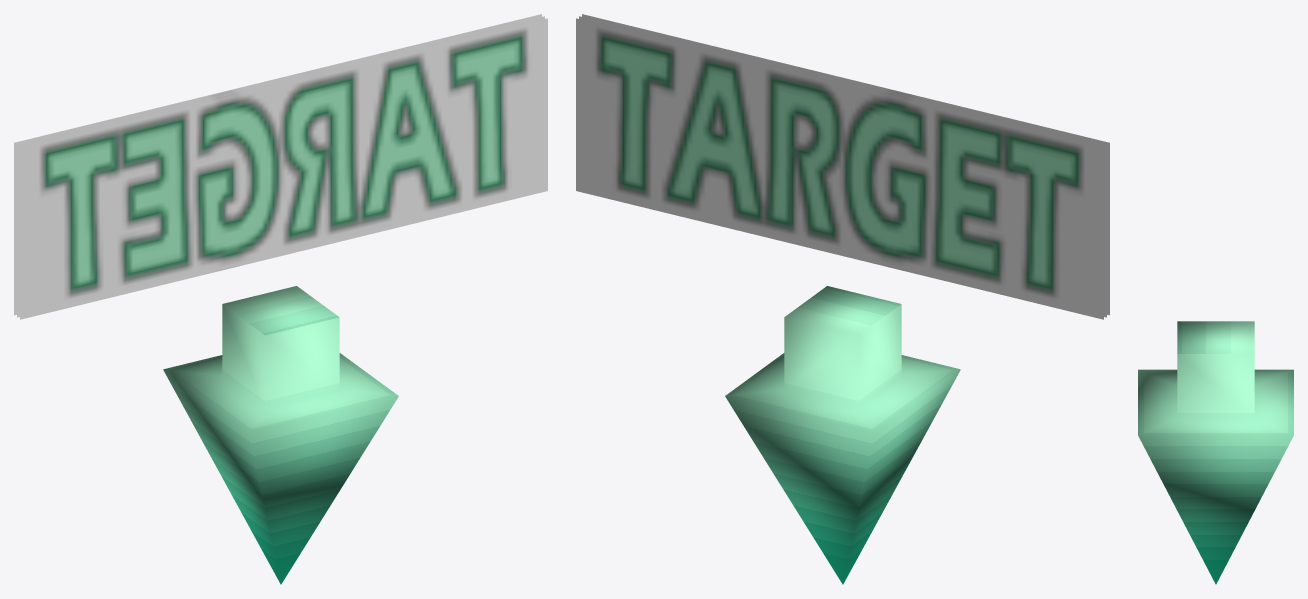
Rendered from sfx_target_target1.glb.
The picture shows the model from 3 angles, left to right: view 1: azimuth 30°, elevation 25°; view 2: azimuth 150°, elevation 25°; view 3: azimuth 270°, elevation 25°; orthographic projection. The views are drawn at different scales.
Visible parts, largest first — view 1: sfx_target_target1, sfx_target_target1_obj5; view 2: sfx_target_target1, sfx_target_target1_obj5; view 3: sfx_target_target1_obj5.
Boxes of the visible parts, x1,y1,x2,y2 form: sfx_target_target1: [14, 14, 547, 319]; sfx_target_target1_obj5: [163, 286, 398, 584]; sfx_target_target1: [576, 14, 1109, 319]; sfx_target_target1_obj5: [725, 286, 960, 584]; sfx_target_target1_obj5: [1138, 321, 1293, 584].
Size of the model in its own units: 1.02 by 0.9348 by 0.2903.
2 materials, 2 textured.
